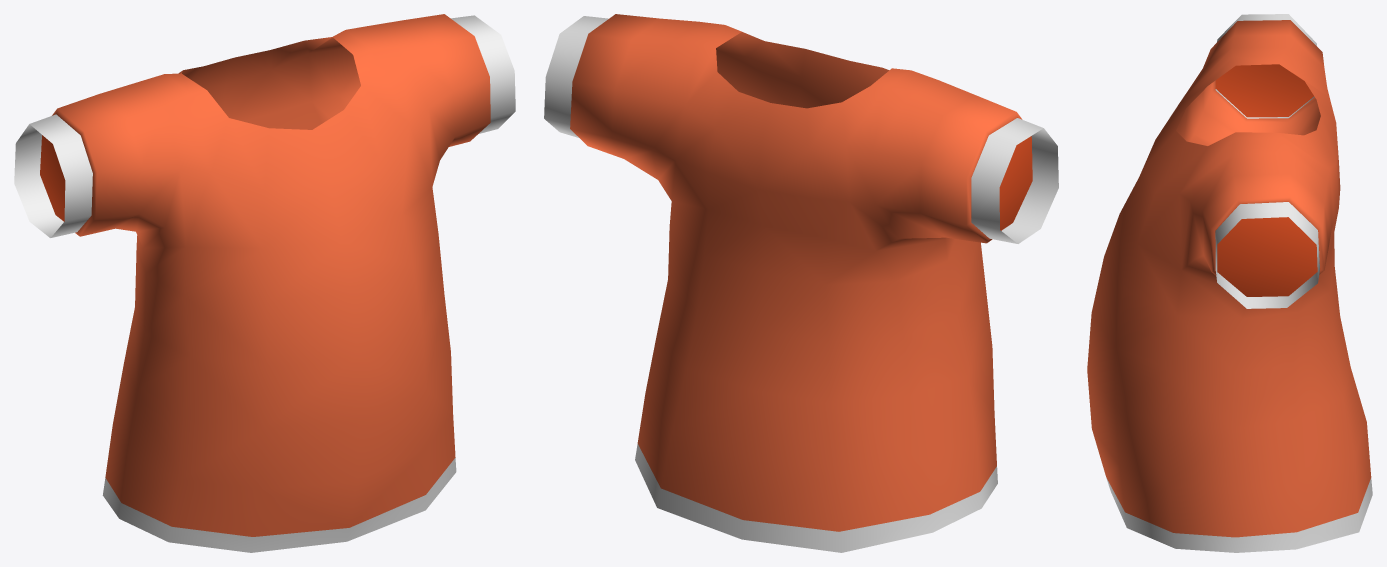
File: Outerwear_Orange_013.glb
3 views of the same model, side by side, from view 1: azimuth 30°, elevation 25°; view 2: azimuth 150°, elevation 25°; view 3: azimuth 270°, elevation 25° (orthographic). The views are drawn at different scales.
Visible parts, largest first — view 1: Outerwear_Orange_013; view 2: Outerwear_Orange_013; view 3: Outerwear_Orange_013.
Boxes of the visible parts, left/top/right/bottom form: Outerwear_Orange_013: left=14, top=14, right=515, bottom=552; Outerwear_Orange_013: left=544, top=14, right=1058, bottom=552; Outerwear_Orange_013: left=1087, top=14, right=1372, bottom=552.
Size of the model in its own units: 0.6893 by 0.6211 by 0.4041.
Materials: 1 (1 with a texture image).
